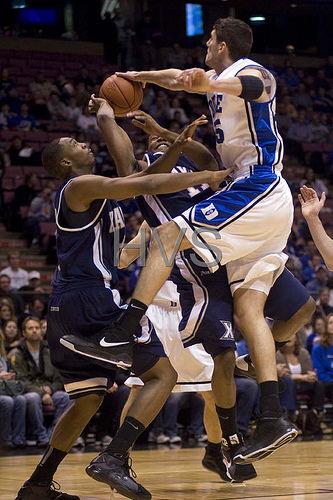basketball: (100, 74, 143, 116)
